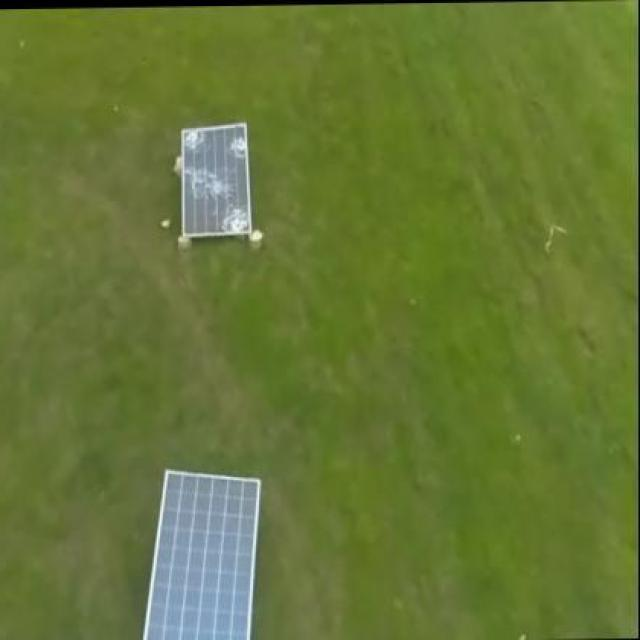cracked: (177, 120, 254, 244)
